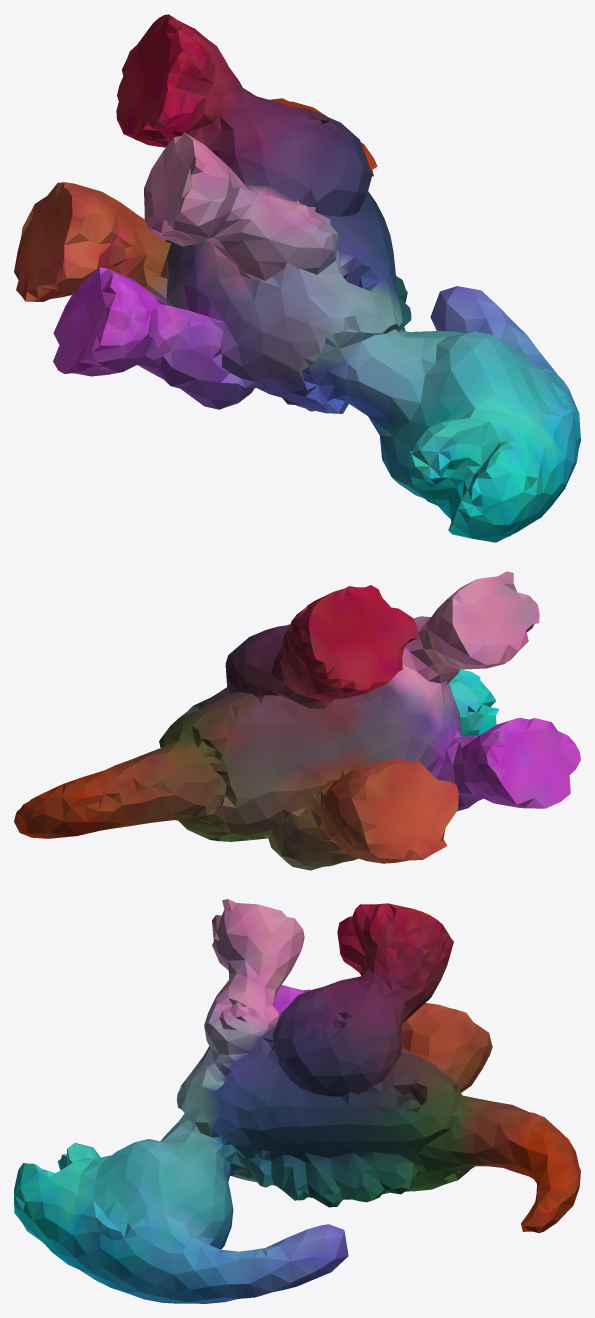
File: corr_dino_meshfm.glb
3 views of the same model, one above another, from view 1: azimuth 30°, elevation 25°; view 2: azimuth 150°, elevation 25°; view 3: azimuth 270°, elevation 25° (orthographic). The views are drawn at different scales.
Parts seen in each view (by area): view 1: world; view 2: world; view 3: world.
Boxes of the visible parts, left/top/right/bottom form: world: left=14, top=14, right=580, bottom=542; world: left=14, top=571, right=580, bottom=870; world: left=14, top=899, right=580, bottom=1303.
Size of the model in its own units: 1.29 by 1.06 by 1.69.
